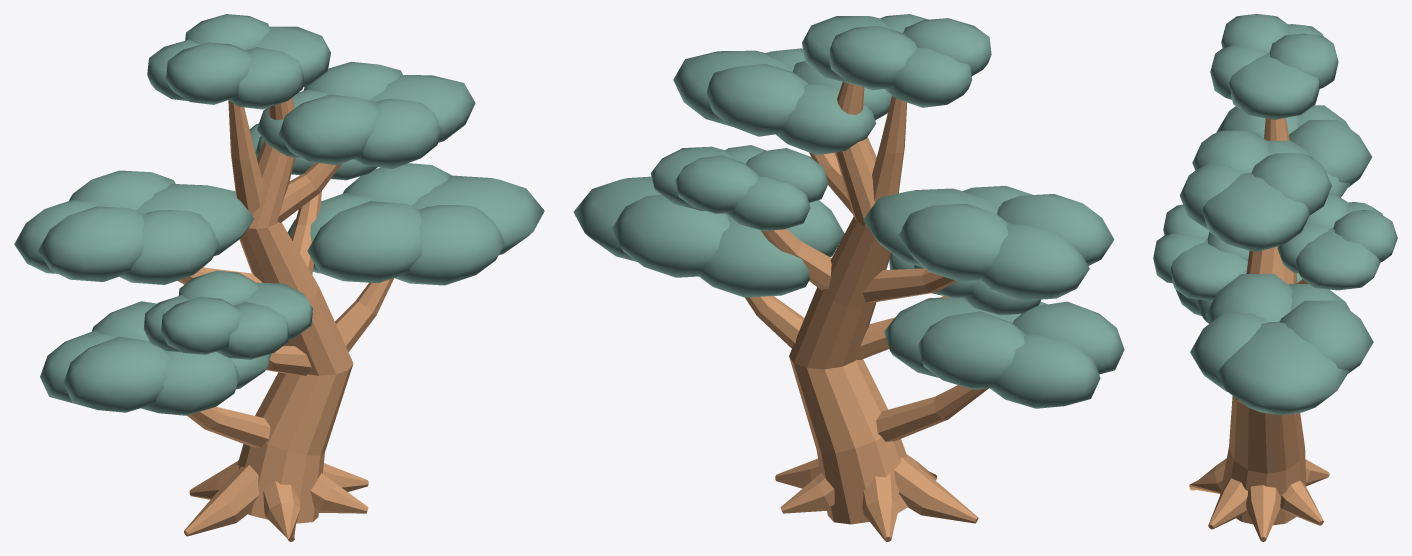
File: Test_CheonRef_PineA.fbx
3 views of the same model, side by side, from view 1: azimuth 30°, elevation 25°; view 2: azimuth 150°, elevation 25°; view 3: azimuth 270°, elevation 25° (orthographic). The views are drawn at different scales.
Parts seen in each view (by area): view 1: CurvedPineTrunk, VolumePineCanopy.008, VolumePineCanopy.013, VolumePineCanopy.003, VolumePineCanopy.009, VolumePineCanopy.018, VolumePineCanopy.014, VolumePineCanopy.005, VolumePineCanopy.004, VolumePineCanopy.019, VolumePineCanopy.023, VolumePineCanopy.010 (+30 smaller); view 2: CurvedPineTrunk, VolumePineCanopy.006, VolumePineCanopy.011, VolumePineCanopy.001, VolumePineCanopy.012, VolumePineCanopy.002, VolumePineCanopy.007, VolumePineCanopy.016, VolumePineCanopy.017, VolumePineCanopy.013, VolumePineCanopy.021, VolumePineCanopy.003 (+26 smaller); view 3: CurvedPineTrunk, VolumePineCanopy.005, VolumePineCanopy.015, VolumePineCanopy.020, VolumePineCanopy.006, VolumePineCanopy.030, VolumePineCanopy.011, VolumePineCanopy.025, VolumePineCanopy.016, VolumePineCanopy.008, VolumePineCanopy.009, VolumePineCanopy.021 (+19 smaller).
Part boxes in pixels (bbox=[...]): CurvedPineTrunk: bbox=[237, 98, 353, 523]; VolumePineCanopy.008: bbox=[307, 201, 422, 283]; VolumePineCanopy.013: bbox=[38, 206, 145, 281]; VolumePineCanopy.003: bbox=[63, 336, 170, 412]; VolumePineCanopy.009: bbox=[394, 205, 504, 285]; VolumePineCanopy.018: bbox=[279, 94, 377, 165]; VolumePineCanopy.014: bbox=[119, 210, 219, 284]; VolumePineCanopy.005: bbox=[412, 175, 544, 254]; VolumePineCanopy.004: bbox=[141, 350, 239, 415]; VolumePineCanopy.019: bbox=[353, 99, 441, 168]; VolumePineCanopy.023: bbox=[166, 42, 251, 104]; VolumePineCanopy.010: bbox=[136, 184, 253, 255]; CurvedPineTrunk: bbox=[789, 82, 907, 524]; VolumePineCanopy.006: bbox=[611, 195, 729, 277]; VolumePineCanopy.011: bbox=[898, 203, 1009, 281]; VolumePineCanopy.001: bbox=[918, 311, 1024, 389]; VolumePineCanopy.012: bbox=[980, 223, 1089, 300]; VolumePineCanopy.002: bbox=[990, 333, 1100, 408]; VolumePineCanopy.007: bbox=[698, 216, 809, 297]; VolumePineCanopy.016: bbox=[706, 63, 808, 136]; VolumePineCanopy.017: bbox=[776, 84, 876, 155]; VolumePineCanopy.013: bbox=[997, 194, 1114, 265]; VolumePineCanopy.021: bbox=[829, 26, 917, 90]; VolumePineCanopy.003: bbox=[1013, 301, 1124, 374]; CurvedPineTrunk: bbox=[1220, 118, 1306, 525]; VolumePineCanopy.005: bbox=[1217, 321, 1349, 415]; VolumePineCanopy.015: bbox=[1203, 173, 1309, 251]; VolumePineCanopy.020: bbox=[1229, 52, 1319, 119]; VolumePineCanopy.006: bbox=[1279, 300, 1373, 373]; VolumePineCanopy.030: bbox=[1295, 228, 1380, 290]; VolumePineCanopy.011: bbox=[1289, 120, 1372, 187]; VolumePineCanopy.025: bbox=[1171, 239, 1247, 300]; VolumePineCanopy.016: bbox=[1251, 153, 1331, 214]; VolumePineCanopy.008: bbox=[1205, 274, 1292, 323]; VolumePineCanopy.009: bbox=[1190, 311, 1268, 391]; VolumePineCanopy.021: bbox=[1270, 33, 1338, 88].
Size of the model in its own units: 579 by 546 by 264.
